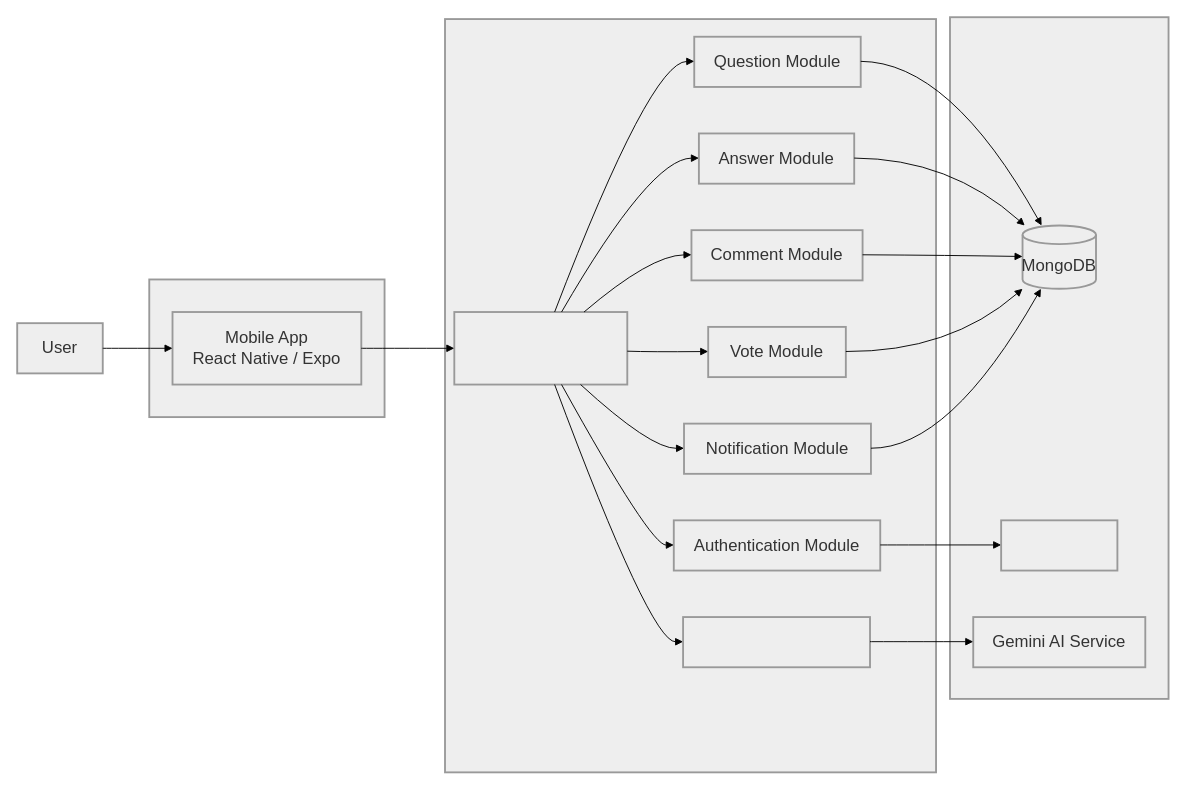
This 1185x789 diagram has some shape labels left out. Each missing label, with the box of its shape:
AI Explainer Module: (682, 616, 870, 668)
Application Layer: (444, 18, 937, 773)
Appwrite: (1000, 519, 1118, 571)
Backend API Node.js / Express: (453, 311, 628, 385)
Data & External Services: (949, 16, 1169, 699)
